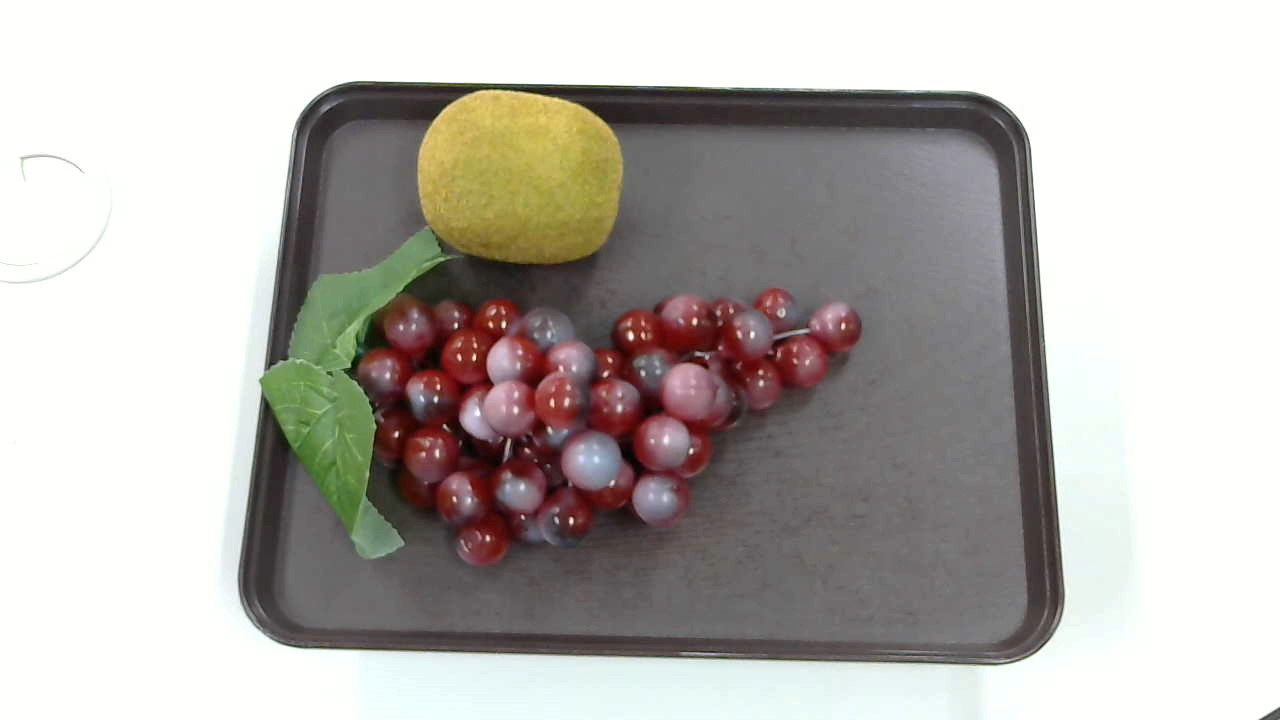grape: (262, 237, 862, 563)
kiwi fruit: (417, 90, 624, 261)
